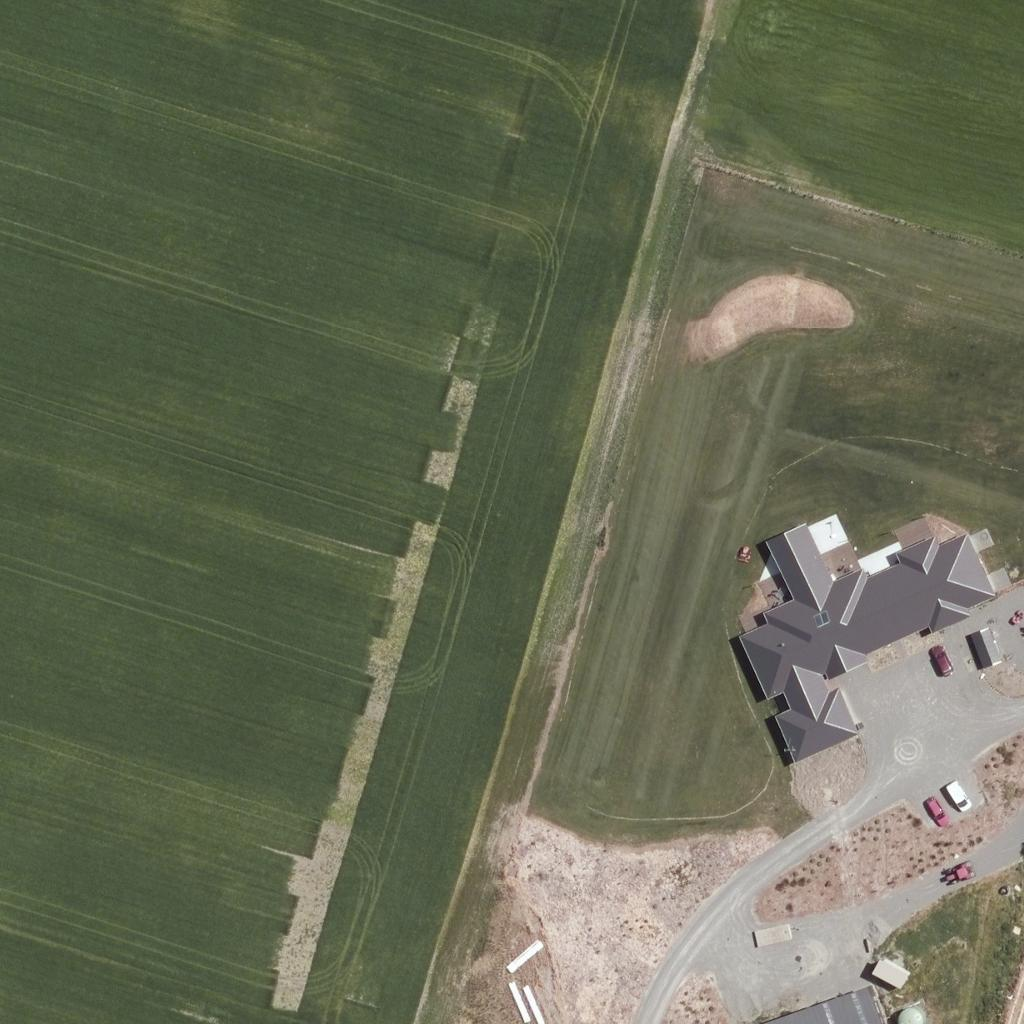car: (924, 642, 958, 676), (942, 780, 976, 814), (920, 793, 954, 827)
